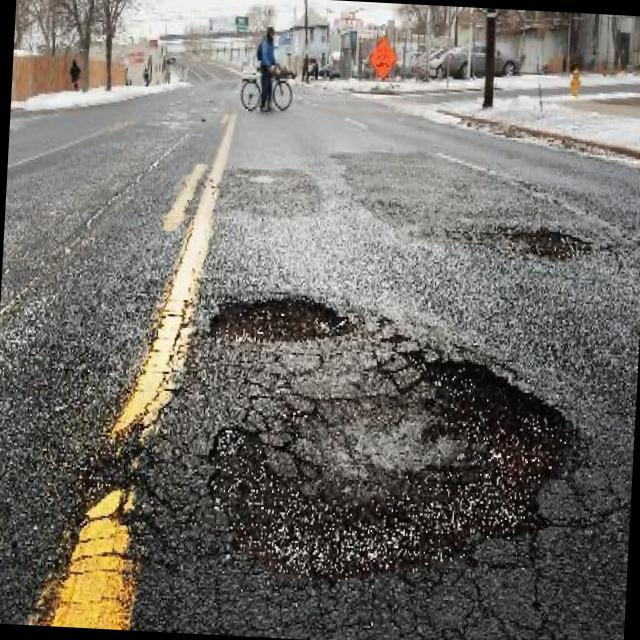Pothole: (211, 295, 575, 577), (495, 227, 588, 258)
